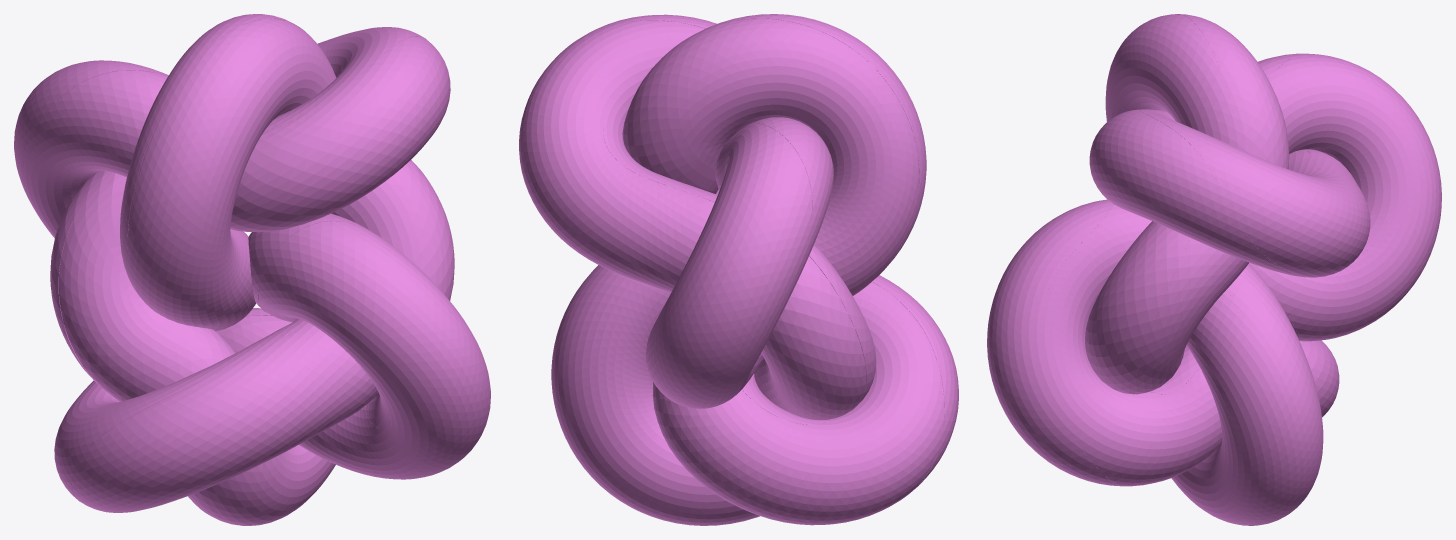
The model's file is gem_403686512.gltf.
3 renders of one model, left to right at view 1: azimuth 30°, elevation 25°; view 2: azimuth 150°, elevation 25°; view 3: azimuth 270°, elevation 25°, orthographic. The views are drawn at different scales.
Size of the model in its own units: 1.15 by 1.46 by 1.28.
